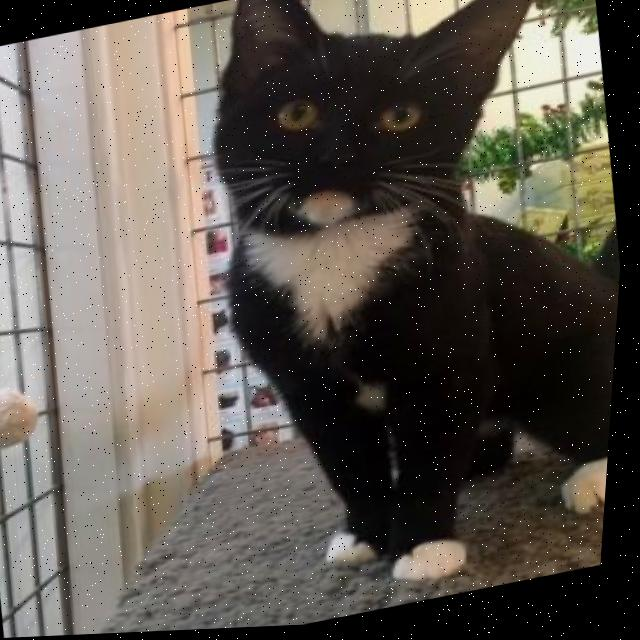Tuxedo: (161, 0, 640, 625)
